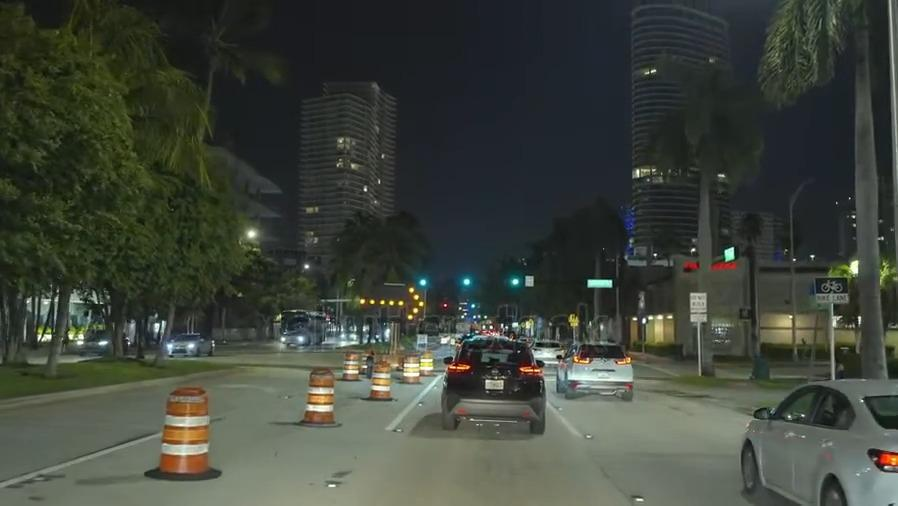arrow traffic sign: (357, 283, 427, 324)
bus: (278, 305, 329, 351)
car: (744, 377, 898, 506), (439, 335, 545, 430), (556, 341, 635, 399), (73, 328, 130, 358), (164, 329, 214, 359), (528, 336, 563, 365)
cone: (156, 385, 215, 472), (303, 367, 334, 427), (366, 363, 394, 398), (341, 347, 359, 382), (400, 352, 419, 382), (419, 352, 435, 377)
pedestrian: (647, 359, 730, 376)
traffic light: (449, 270, 479, 295), (503, 271, 527, 295), (410, 271, 434, 291)
wheel: (733, 438, 764, 492), (811, 474, 848, 506)
